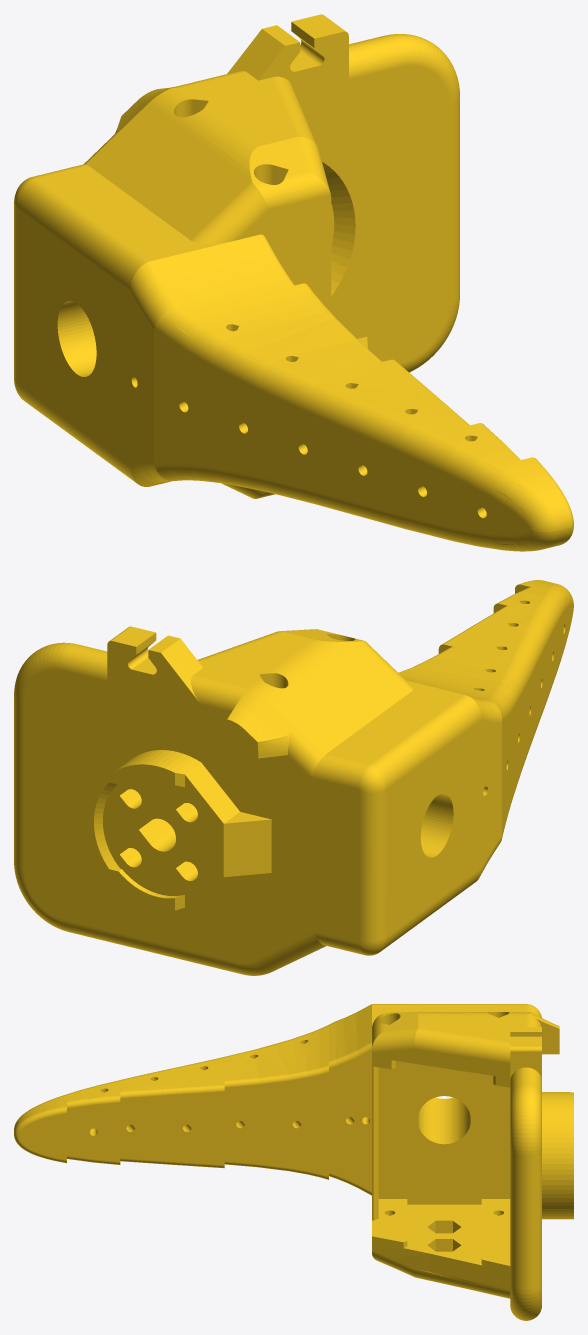
Rendered from wrist_roll_follower_so101_v1.glb.
3 renders of one model, top to bottom at view 1: azimuth 30°, elevation 25°; view 2: azimuth 150°, elevation 25°; view 3: azimuth 270°, elevation 25°, orthographic. The views are drawn at different scales.
Parts seen in each view (by area): view 1: wrist_roll_follower_so101_v1; view 2: wrist_roll_follower_so101_v1; view 3: wrist_roll_follower_so101_v1.
Part boxes in pixels (x1,y1,x2,y2): wrist_roll_follower_so101_v1: [14, 14, 573, 551]; wrist_roll_follower_so101_v1: [14, 580, 573, 975]; wrist_roll_follower_so101_v1: [14, 1004, 573, 1320].
Bounding box in the file's own units: 0.0652 × 0.052 × 0.1054.
